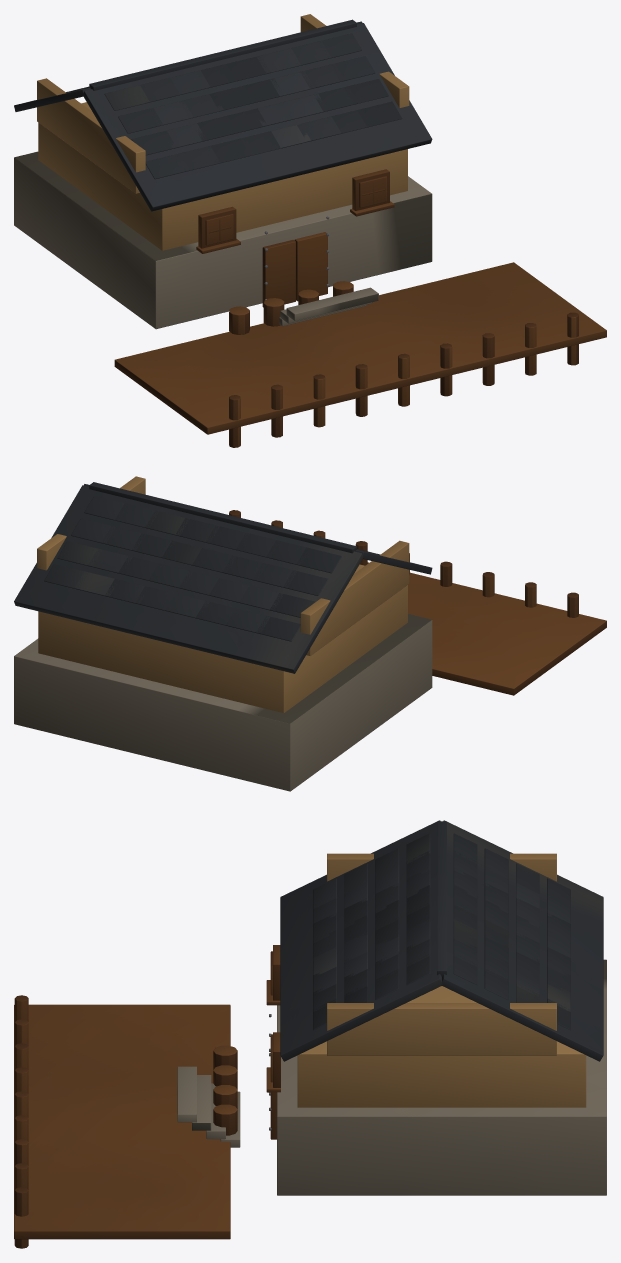
Rendered from building_freetown_smugglers_den.fbx.
3 renders of one model, top to bottom at view 1: azimuth 30°, elevation 25°; view 2: azimuth 150°, elevation 25°; view 3: azimuth 270°, elevation 25°, orthographic. The views are drawn at different scales.
Visible parts, largest first — view 1: building_freetown_smugglers_den; view 2: building_freetown_smugglers_den; view 3: building_freetown_smugglers_den.
Part boxes in pixels (bbox=[...]): building_freetown_smugglers_den: bbox=[14, 14, 606, 447]; building_freetown_smugglers_den: bbox=[14, 476, 606, 791]; building_freetown_smugglers_den: bbox=[14, 820, 606, 1248].
Bounding box in the file's own units: 10.4 × 5.44 × 11.5.
